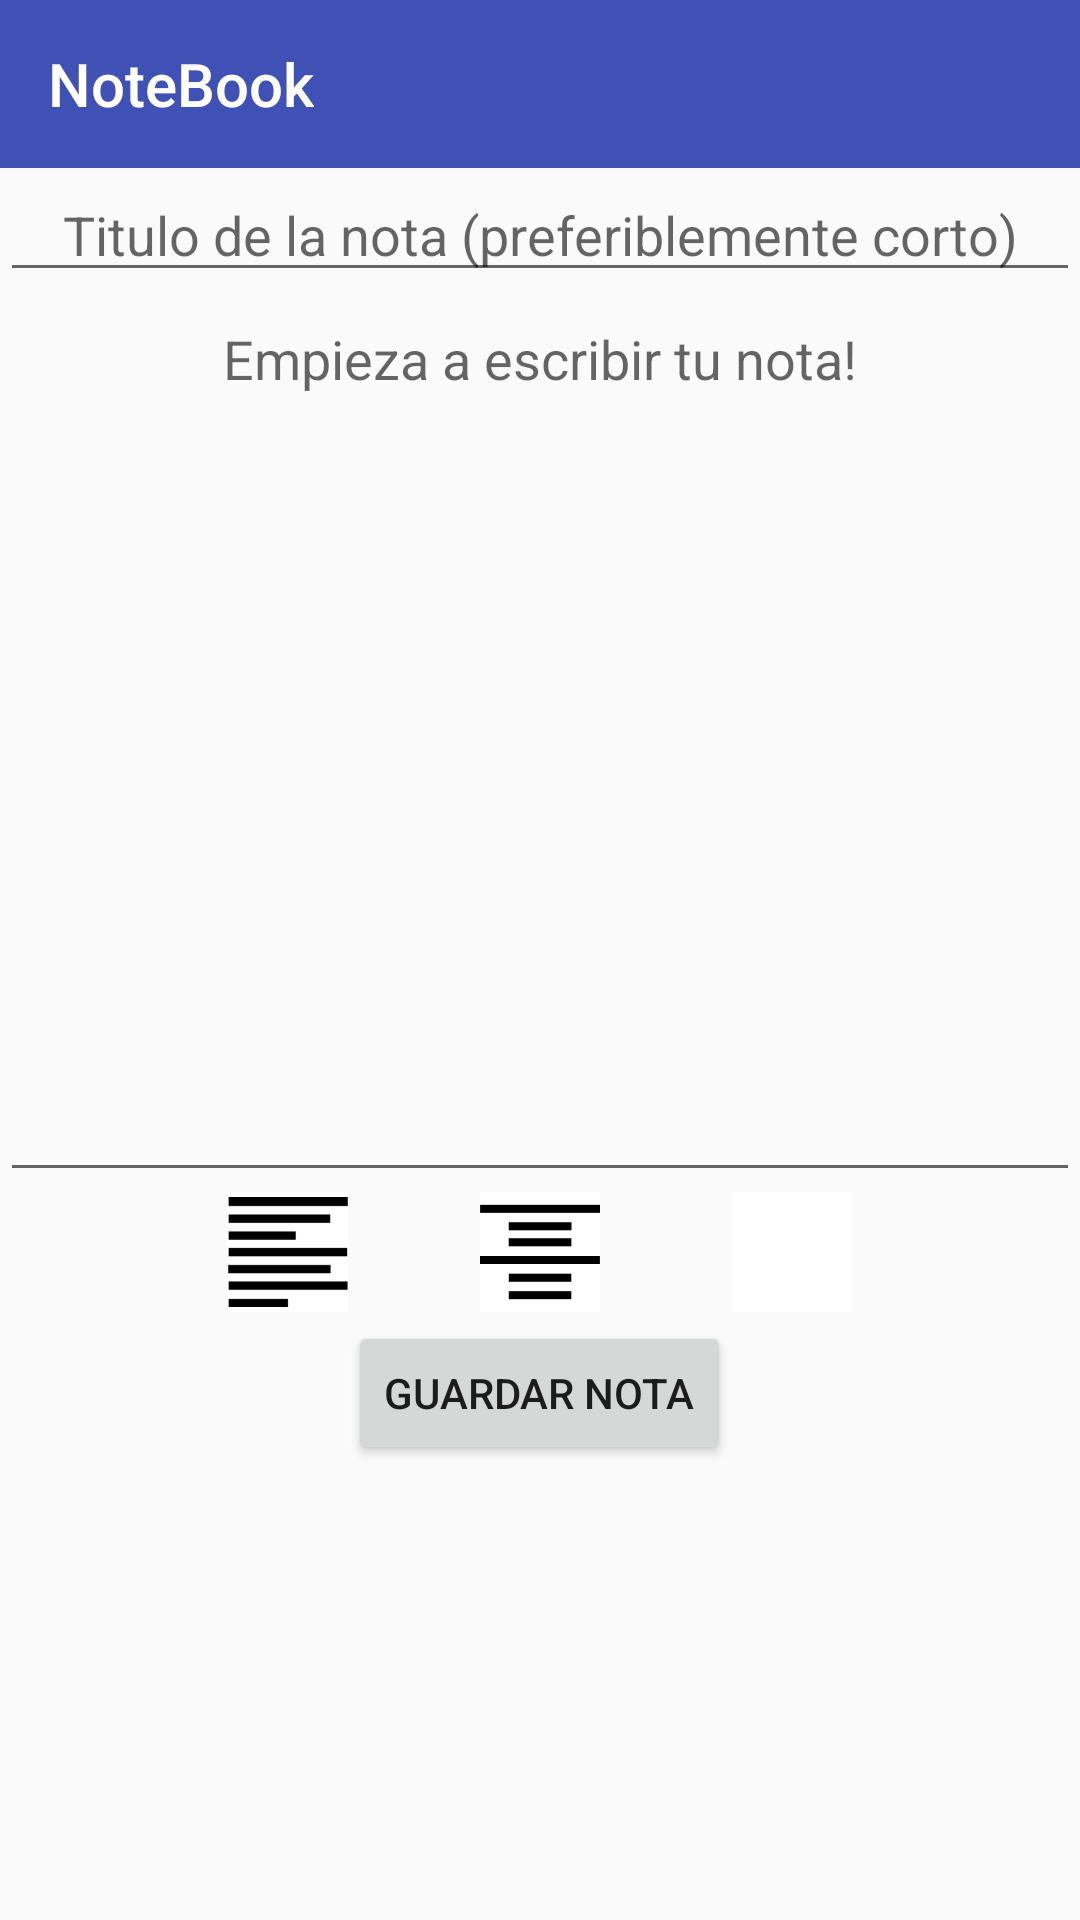

Point at icon controls on the screen. Image size 1080*1920, points as [x,y].
center: [540,1252]
left: [288,1252]
